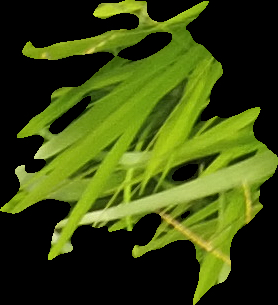grass: (1, 1, 275, 302)
